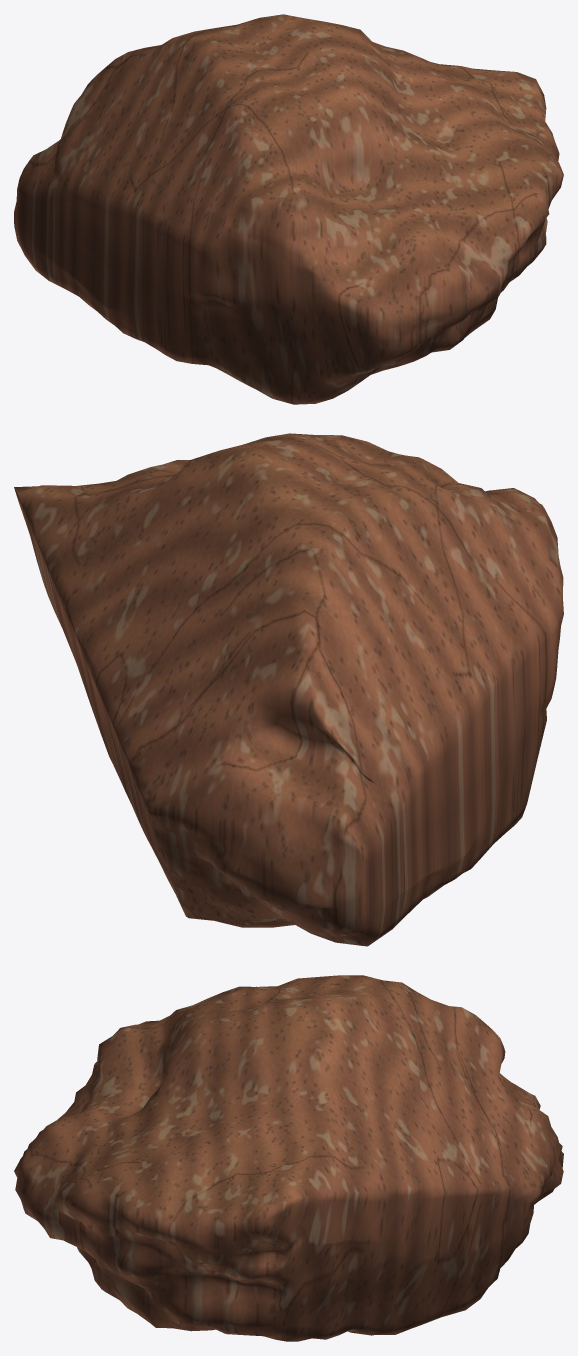
The model's file is rock-redstone-1.full.glb.
3 renders of one model, top to bottom at view 1: azimuth 30°, elevation 25°; view 2: azimuth 150°, elevation 25°; view 3: azimuth 270°, elevation 25°, orthographic. The views are drawn at different scales.
Visible parts, largest first — view 1: model; view 2: model; view 3: model.
Boxes of the visible parts, left/top/right/bottom form: model: left=14, top=14, right=563, bottom=404; model: left=14, top=433, right=563, bottom=946; model: left=14, top=975, right=563, bottom=1341.
Bounding box in the file's own units: 1 × 0.7663 × 1.17.
Materials: 1 (1 with a texture image).
